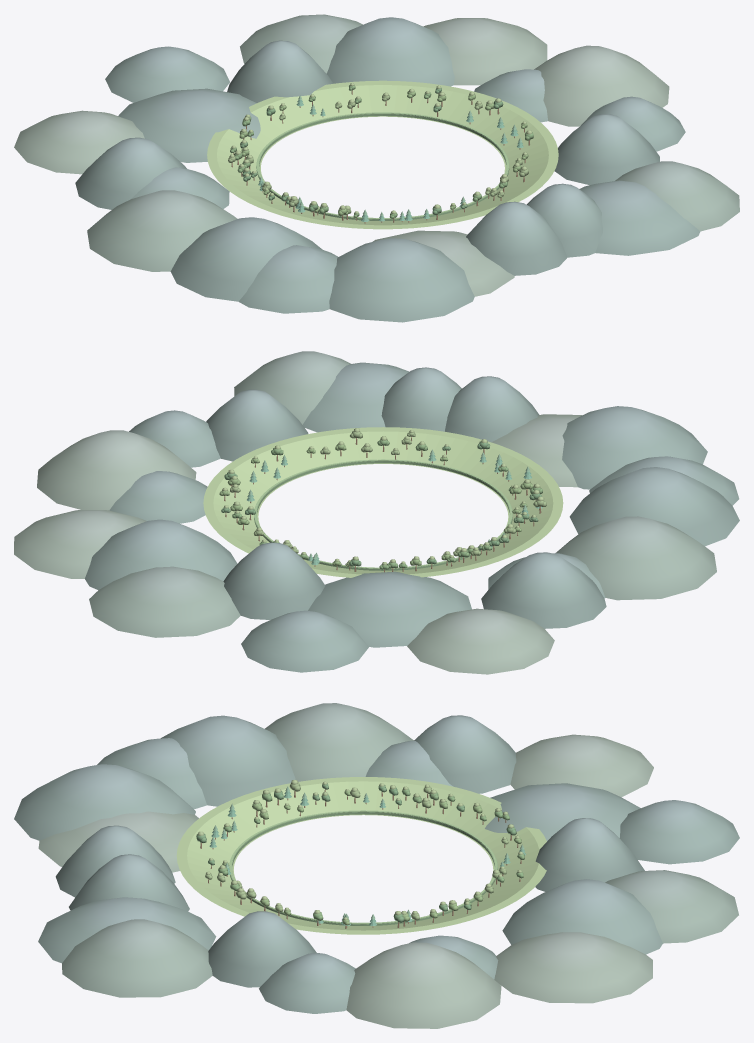
Rendered from env_hq.glb.
3 renders of one model, top to bottom at view 1: azimuth 30°, elevation 25°; view 2: azimuth 150°, elevation 25°; view 3: azimuth 270°, elevation 25°, orthographic. The views are drawn at different scales.
Visible parts, largest first — view 1: Env_far, Env_terrain, Env_props; view 2: Env_far, Env_terrain, Env_props; view 3: Env_far, Env_terrain, Env_props.
Boxes of the visible parts, box(x1,y1,x2,y2) form: Env_far: box(14, 14, 739, 322); Env_terrain: box(207, 80, 558, 229); Env_props: box(228, 83, 533, 223); Env_far: box(14, 351, 739, 674); Env_terrain: box(203, 427, 563, 577); Env_props: box(219, 428, 546, 572); Env_far: box(14, 703, 739, 1028); Env_terrain: box(176, 777, 546, 934); Env_props: box(196, 779, 525, 928).
Size of the model in its own units: 285 by 23.38 by 280.
